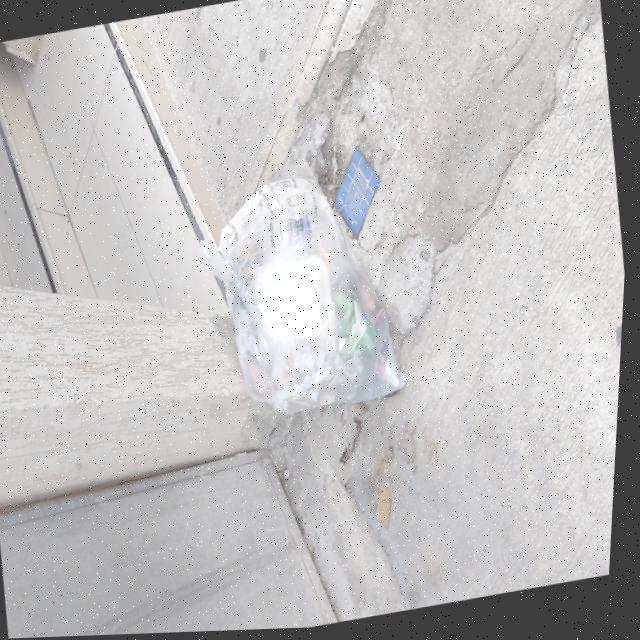Recycled Waste -Grey or Green Bag-: (189, 163, 424, 430)
